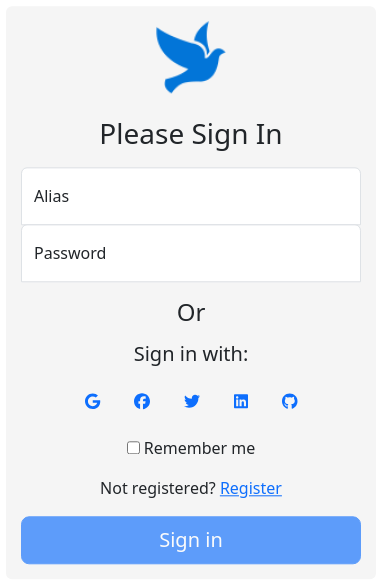
Test: Login Component › disables the sign-in button when either field is clear
Type "a" into the field labelled "Alias" at coordinates (191, 196), box x1=21 y1=167 x2=361 y2=225
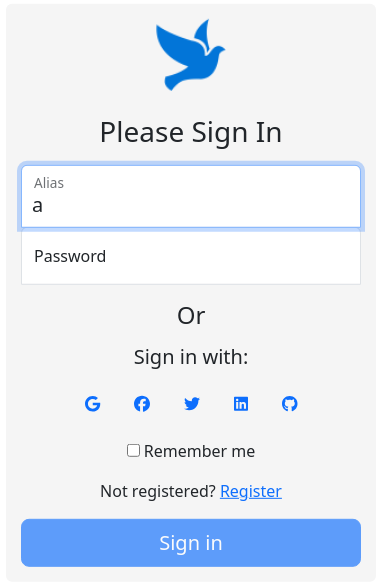
Type "pass" into the password field labelled "Password" at coordinates (191, 255), box x1=21 y1=226 x2=361 y2=284
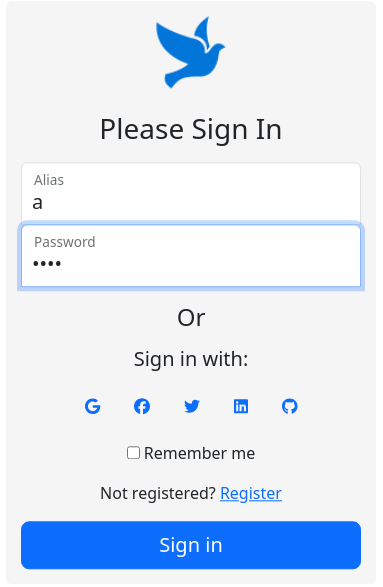
Expected: the button "Sign in" is enabled, x1=21 y1=522 x2=361 y2=570
Clear the field labelled "Alias" at coordinates (191, 193), box x1=21 y1=162 x2=361 y2=225
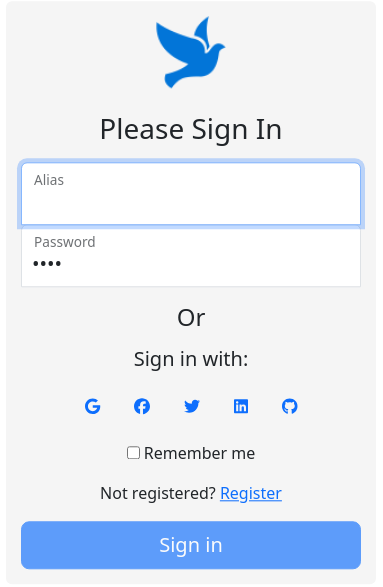
Expected: the button "Sign in" is disabled, x1=21 y1=522 x2=361 y2=570
Type "b" into the field labelled "Alias" at coordinates (191, 193), box x1=21 y1=162 x2=361 y2=225
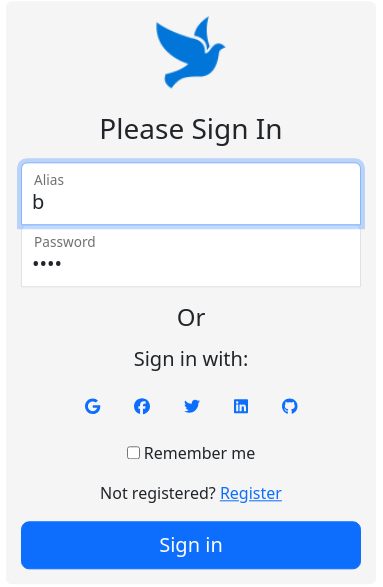
Expected: the button "Sign in" is enabled, x1=21 y1=522 x2=361 y2=570
Clear the password field labelled "Password" at coordinates (191, 255), box x1=21 y1=224 x2=361 y2=287
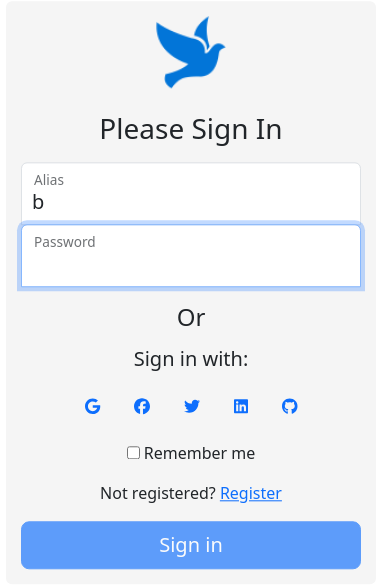
Expected: the button "Sign in" is disabled, x1=21 y1=522 x2=361 y2=570
